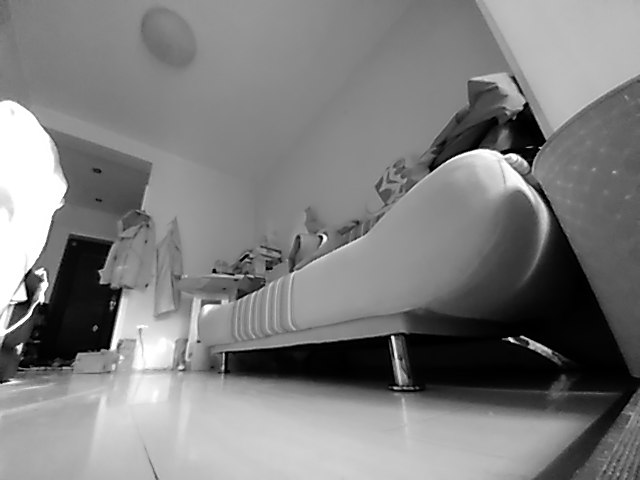wire: (138, 339, 173, 375)
